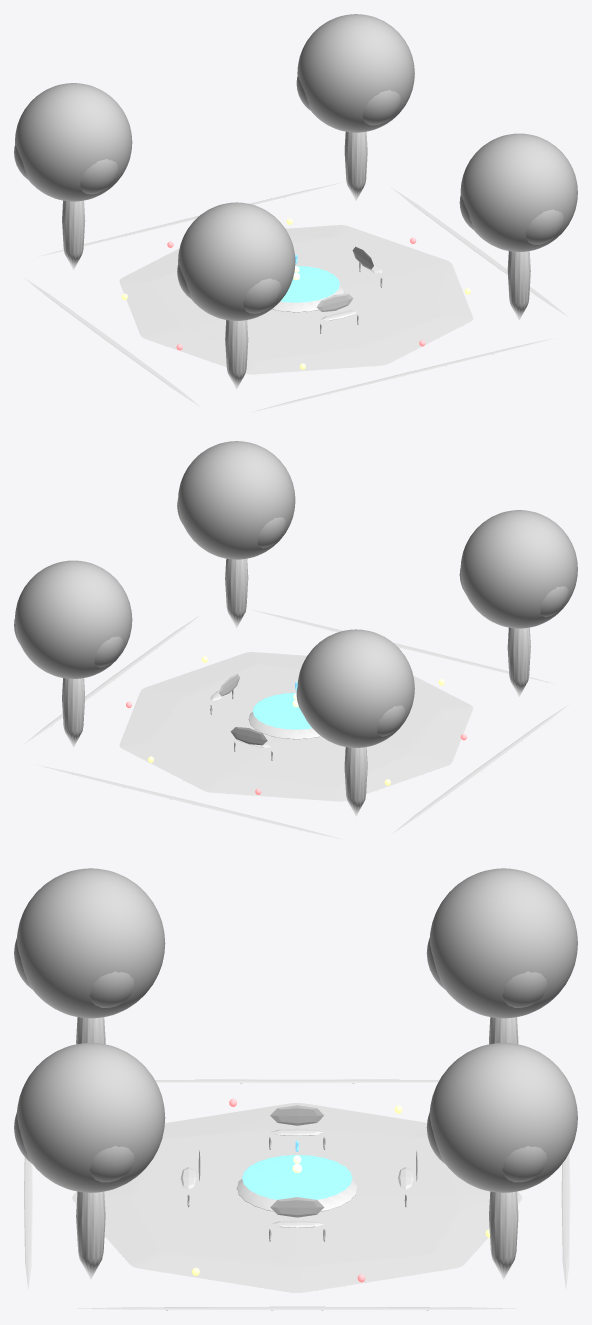
Rendered from district_commons_r2_v3.glb.
3 views of the same model, one above another, from view 1: azimuth 30°, elevation 25°; view 2: azimuth 150°, elevation 25°; view 3: azimuth 270°, elevation 25° (orthographic). The views are drawn at different scales.
Parts seen in each view (by area): view 1: grass_main, tree_sw_canopy_main, tree_se_canopy_main, tree_ne_canopy_main, tree_nw_canopy_main, fount_water, tree_ne_trunk, tree_nw_trunk, tree_se_trunk, tree_sw_trunk, grass_b.001, tree_nw_canopy_c (+7 smaller); view 2: grass_main, tree_nw_canopy_main, tree_sw_canopy_main, tree_se_canopy_main, tree_ne_canopy_main, fount_water, tree_sw_trunk, tree_nw_trunk, tree_se_trunk, tree_ne_trunk, grass_b, grass_b.003 (+7 smaller); view 3: grass_main, tree_sw_canopy_main, tree_nw_canopy_main, tree_se_canopy_main, tree_ne_canopy_main, fount_water, tree_se_trunk, tree_ne_trunk, grass_b.002, tree_se_canopy_a, tree_sw_canopy_a, tree_ne_canopy_a (+9 smaller).
Boxes of the visible parts, bbox=[...] form: grass_main: bbox=[119, 225, 473, 374]; tree_sw_canopy_main: bbox=[178, 202, 295, 320]; tree_se_canopy_main: bbox=[460, 133, 577, 251]; tree_ne_canopy_main: bbox=[297, 14, 414, 132]; tree_nw_canopy_main: bbox=[15, 83, 132, 201]; fount_water: bbox=[280, 265, 340, 302]; tree_ne_trunk: bbox=[344, 131, 367, 200]; tree_nw_trunk: bbox=[62, 200, 85, 269]; tree_se_trunk: bbox=[507, 251, 530, 320]; tree_sw_trunk: bbox=[225, 320, 248, 389]; grass_b.001: bbox=[250, 338, 554, 412]; tree_nw_canopy_c: bbox=[80, 159, 118, 194]; grass_main: bbox=[119, 652, 473, 801]; tree_nw_canopy_main: bbox=[297, 629, 414, 747]; tree_sw_canopy_main: bbox=[460, 510, 577, 628]; tree_se_canopy_main: bbox=[178, 441, 295, 559]; tree_ne_canopy_main: bbox=[15, 560, 132, 678]; fount_water: bbox=[252, 692, 311, 729]; tree_sw_trunk: bbox=[507, 627, 530, 696]; tree_nw_trunk: bbox=[344, 747, 367, 816]; tree_se_trunk: bbox=[225, 558, 248, 627]; tree_ne_trunk: bbox=[62, 678, 85, 747]; grass_b: bbox=[36, 764, 342, 839]; grass_b.003: bbox=[392, 705, 567, 833]; grass_main: bbox=[72, 1103, 522, 1292]; tree_sw_canopy_main: bbox=[17, 868, 165, 1018]; tree_nw_canopy_main: bbox=[429, 868, 577, 1018]; tree_se_canopy_main: bbox=[17, 1043, 165, 1192]; tree_ne_canopy_main: bbox=[429, 1043, 577, 1192]; fount_water: bbox=[242, 1155, 352, 1199]; tree_se_trunk: bbox=[76, 1191, 105, 1279]; tree_ne_trunk: bbox=[489, 1191, 518, 1279]; grass_b.002: bbox=[78, 1306, 516, 1310]; tree_se_canopy_a: bbox=[89, 1146, 134, 1182]; tree_sw_canopy_a: bbox=[89, 971, 134, 1007]; tree_ne_canopy_a: bbox=[502, 1146, 546, 1182].
Size of the model in its own units: 10.34 by 4.83 by 10.38.
